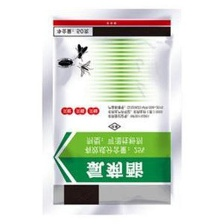insecticide: (37, 5, 188, 222)
